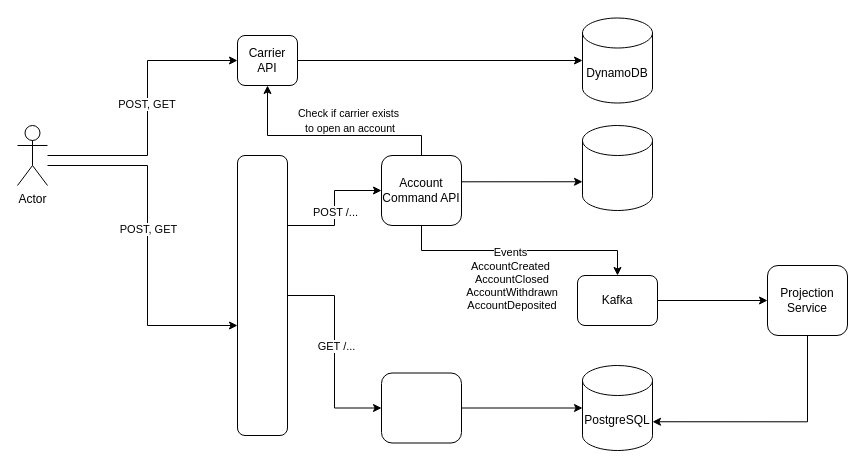
This 865x468 diagram has some shape labels left out. The centre of each missing label's shape, as x and y in pixels:
"Account Query API" belongs at point 421,407.
"API Gateway - Account" belongs at point 262,295.
"DynamoDB - Event Store" belongs at point 617,167.
